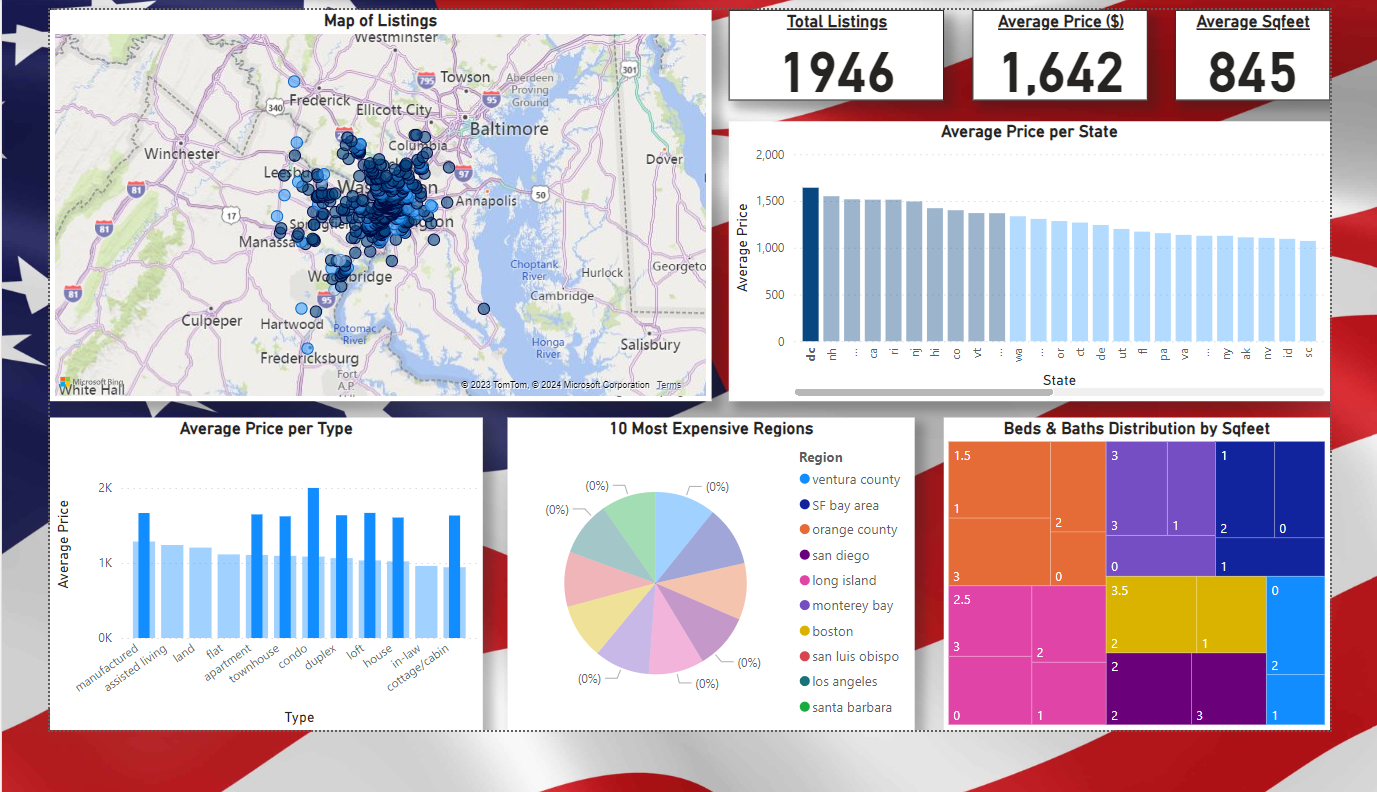

Layout of this report page (visuals, bound fields, positions):
{"tool":"powerbi","page":{"name":"Page 1","canvas":[1280,720],"ordinal":0},"visuals":[{"type":"columnChart","title":"Average Price per State","fields":{"Category":["Location Dim.State"],"Y":["Measures.AVG_PRICE"]},"box":[678.8,111.2,601.2,280],"z":0},{"type":"map","title":"Map of Listings","fields":{"Y":["Location Dim.Lat"],"X":["Location Dim.Long"]},"box":[0,0,661.2,391.2],"z":1000},{"type":"card","title":"Average Price ($)","fields":{"Values":["Measures.AVG_PRICE"]},"box":[922.5,0,175,90],"z":2000},{"type":"card","title":"Total Listings","fields":{"Values":["Listings Fact.Listings Fact Count"]},"box":[678.8,0,215,90],"z":3000},{"type":"card","title":"Average Sqfeet","fields":{"Values":["Measures.AVG_SQFEET"]},"box":[1125,0,155,90],"z":4000},{"type":"columnChart","title":"Average Price per Type","fields":{"Category":["Property Dim.Type"],"Y":["Measures.AVG_PRICE"]},"box":[0,407.5,432.5,312.5],"z":5000},{"type":"pieChart","title":"10 Most Expensive Regions","fields":{"Category":["Location Dim.Region"],"Y":["Measures.AVG_PRICE"]},"box":[457.5,407.5,407.5,312.5],"z":6000},{"type":"treemap","title":"Beds & Baths Distribution by Sqfeet","fields":{"Group":["Property Dim.Baths"],"Details":["Property Dim.Beds"],"Values":["Measures.AVG_SQFEET"]},"box":[893.8,407.5,386.2,312.5],"z":6001}]}

Visuals, with their boxes in screenshot pixels (x1, y1, x2, y2), scaled from the page's 1280x720 canvas onto the 1377x792 screenshot:
"Average Price per State" columnChart: (730,122,1376,430)
"Map of Listings" map: (0,0,711,430)
"Average Price ($)" card: (992,0,1181,99)
"Total Listings" card: (730,0,962,99)
"Average Sqfeet" card: (1210,0,1376,99)
"Average Price per Type" columnChart: (0,448,465,791)
"10 Most Expensive Regions" pieChart: (492,448,931,791)
"Beds & Baths Distribution by Sqfeet" treemap: (962,448,1376,791)
